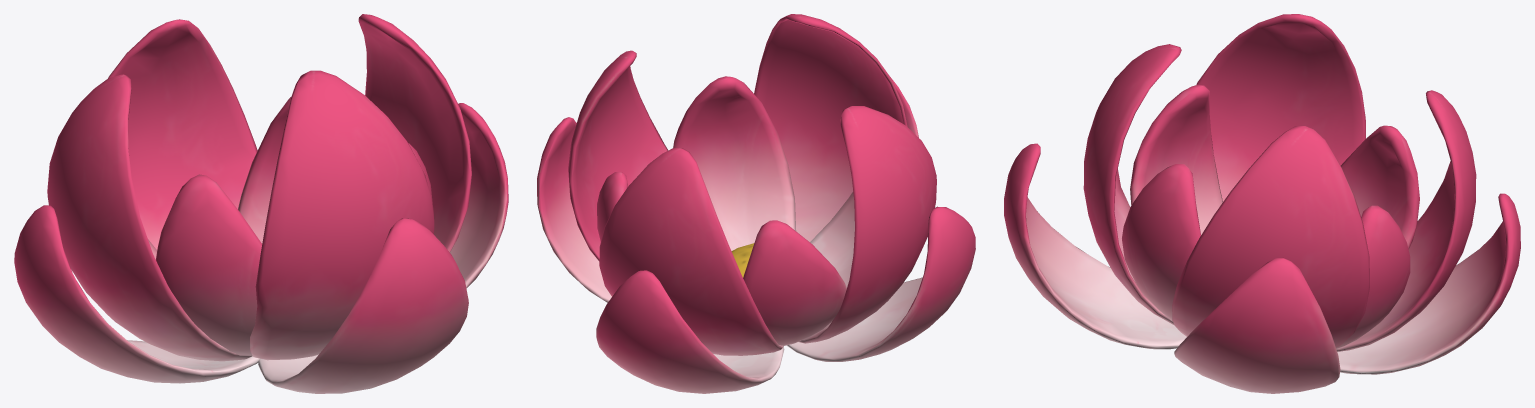
The model's file is FlorDeLotus.fbx.
3 views of the same model, side by side, from view 1: azimuth 30°, elevation 25°; view 2: azimuth 150°, elevation 25°; view 3: azimuth 270°, elevation 25° (orthographic). The views are drawn at different scales.
Visible parts, largest first — view 1: Lotus; view 2: Lotus; view 3: Lotus.
Part boxes in pixels (left/top/right/bottom): Lotus: left=14, top=14, right=508, bottom=393; Lotus: left=537, top=14, right=975, bottom=393; Lotus: left=1004, top=14, right=1520, bottom=393.
Bounding box in the file's own units: 152 × 105 × 158.
